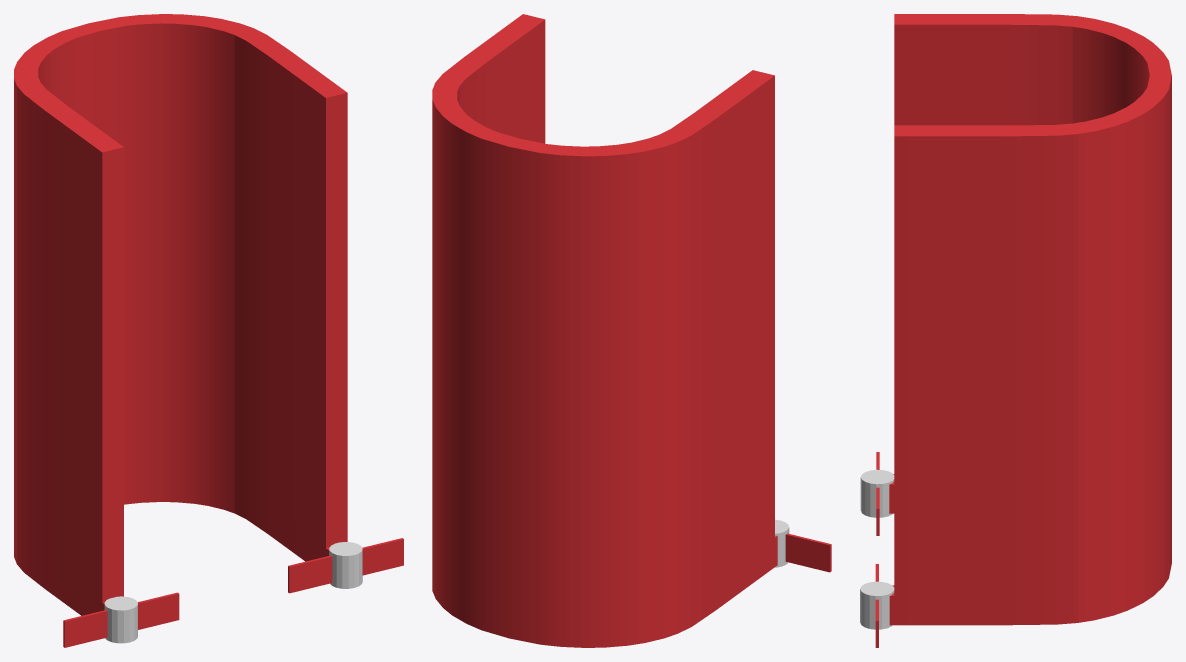
File: magnetcombine.fbx
3 views of the same model, side by side, from view 1: azimuth 30°, elevation 25°; view 2: azimuth 150°, elevation 25°; view 3: azimuth 270°, elevation 25° (orthographic). The views are drawn at different scales.
Visible parts, largest first — view 1: Circle.001, Circle, Cylinder.001, Cylinder; view 2: Circle.001, Circle, Cylinder.001; view 3: Circle.001, Circle, Cylinder, Cylinder.001.
Part boxes in pixels (x1=…): Circle.001: x1=14, y1=14, x2=347, y2=602; Circle: x1=14, y1=473, x2=329, y2=615; Cylinder.001: x1=63, y1=592, x2=179, y2=647; Cylinder: x1=288, y1=538, x2=403, y2=593; Circle.001: x1=432, y1=14, x2=774, y2=646; Circle: x1=432, y1=536, x2=777, y2=647; Cylinder.001: x1=775, y1=519, x2=831, y2=572; Circle.001: x1=894, y1=14, x2=1171, y2=625; Circle: x1=889, y1=474, x2=1171, y2=625; Cylinder: x1=860, y1=564, x2=894, y2=647; Cylinder.001: x1=860, y1=452, x2=894, y2=535.
Size of the model in its own units: 165 by 223 by 128.
